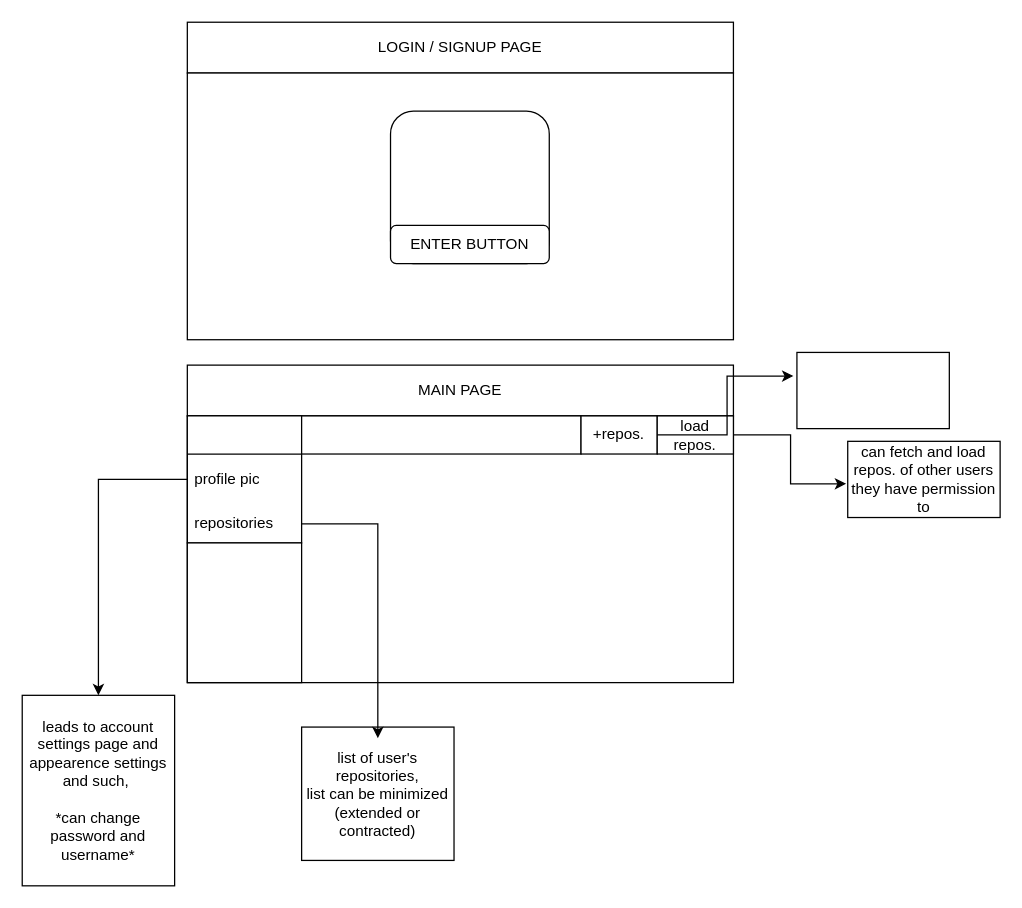
The diagram is 1022 pixels wide and 908 high, and some of its shapes have lost their labels. Here are the shapes that lost their labels. From the top down, the box of each, then its label:
(389, 110, 549, 264): USERNAME PASSWORD
(796, 351, 949, 429): makes a new repos.
(300, 415, 581, 454): repository name
(186, 415, 302, 543): menu
